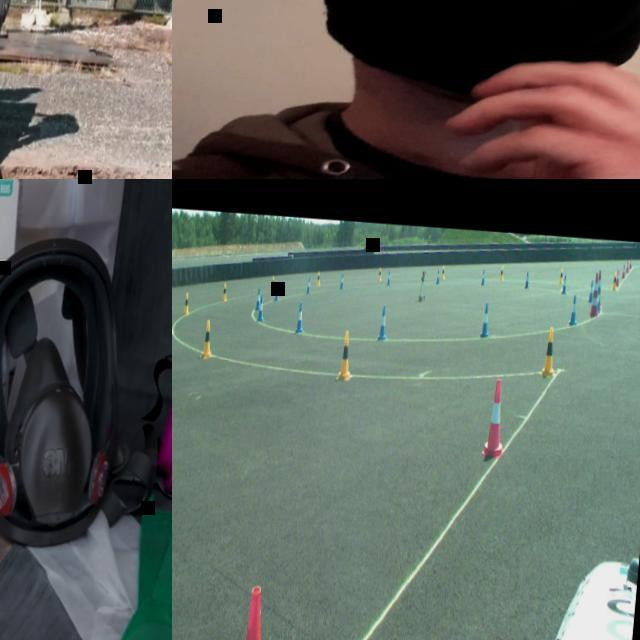mask: (0, 233, 135, 552), (299, 0, 640, 109), (109, 315, 172, 539)
no_vest: (172, 98, 640, 179)
person: (172, 0, 640, 179)
safety_cone: (482, 380, 509, 460), (238, 587, 269, 640), (336, 331, 354, 382), (541, 330, 557, 378), (200, 318, 214, 359), (589, 274, 601, 318), (480, 304, 491, 338), (378, 307, 388, 342), (568, 296, 579, 326), (596, 272, 604, 311), (295, 304, 305, 334), (257, 296, 265, 322), (182, 292, 190, 316), (588, 281, 594, 303), (254, 288, 260, 310), (596, 289, 601, 315), (561, 276, 567, 296), (222, 282, 228, 301), (524, 272, 530, 290), (274, 282, 280, 300), (612, 272, 618, 290), (480, 270, 486, 286), (270, 276, 276, 292), (386, 272, 392, 286), (440, 266, 446, 280), (558, 270, 564, 284), (499, 268, 504, 282), (616, 271, 620, 287), (340, 274, 344, 290), (436, 269, 440, 284), (306, 278, 310, 293), (172, 304, 174, 333), (622, 266, 626, 280), (316, 272, 320, 286), (378, 268, 382, 282), (628, 260, 632, 270), (626, 262, 629, 274)
